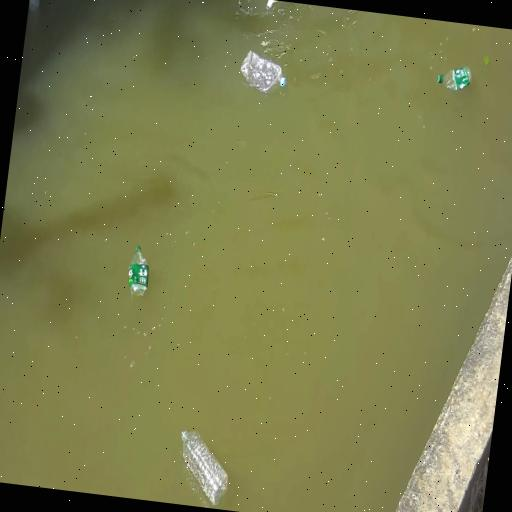plastic: (181, 431, 228, 505), (241, 51, 286, 93), (128, 246, 149, 303), (438, 67, 472, 90), (266, 0, 278, 10)
